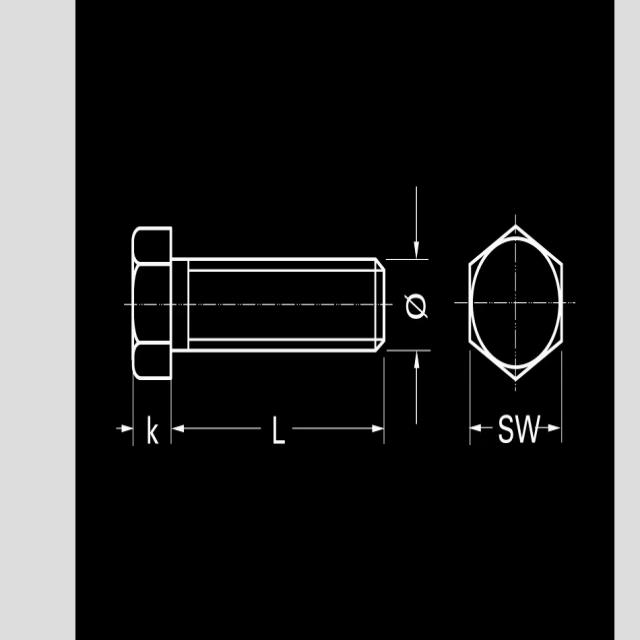marking_line: (167, 379, 387, 444), (389, 187, 432, 426), (116, 381, 262, 448), (467, 381, 565, 443)
numeric: (515, 411, 541, 444), (269, 410, 287, 445), (497, 412, 514, 443), (147, 411, 157, 445)
special_symbol: (401, 288, 430, 323)
